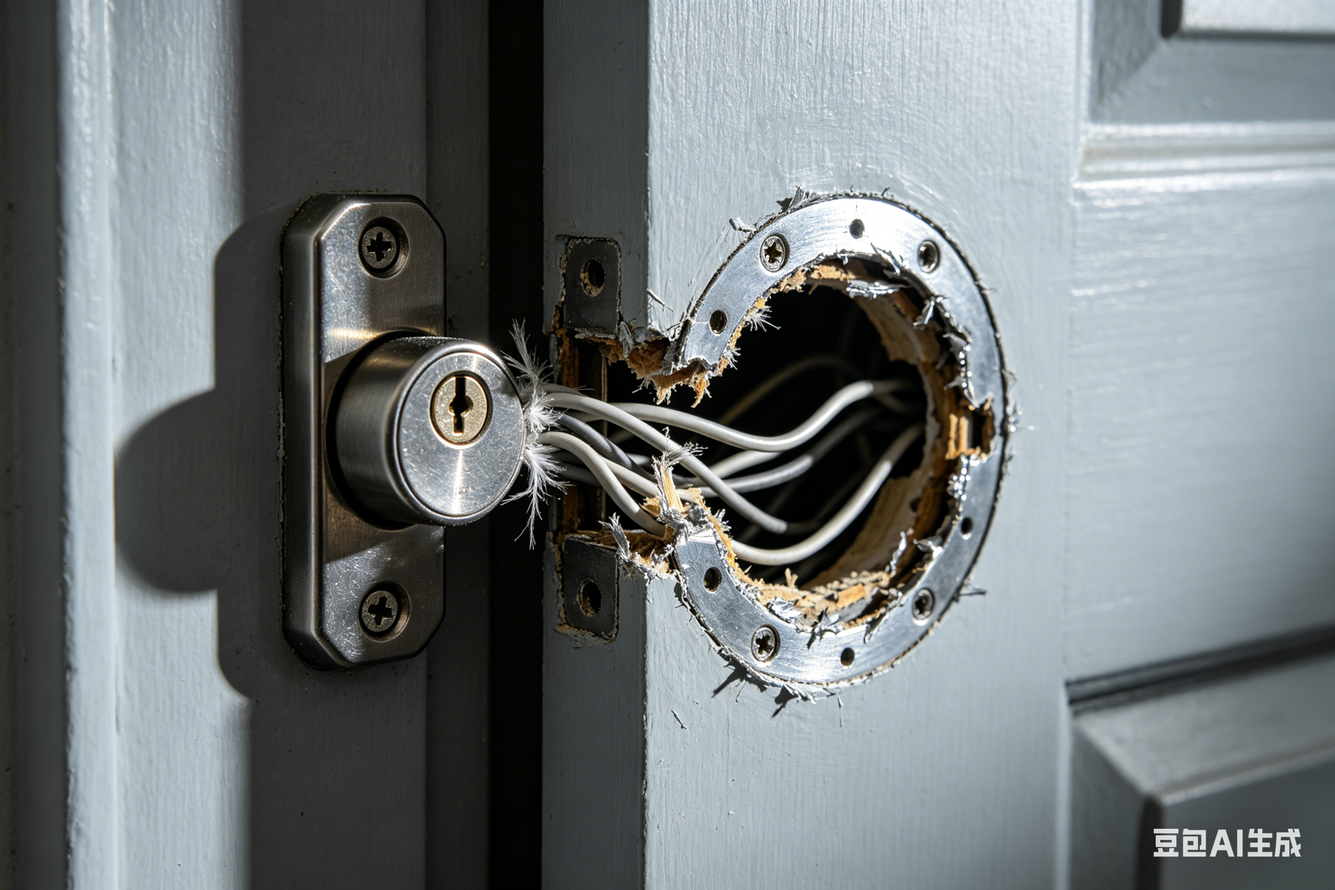BadLock: (693, 241, 993, 638), (509, 312, 700, 560)
